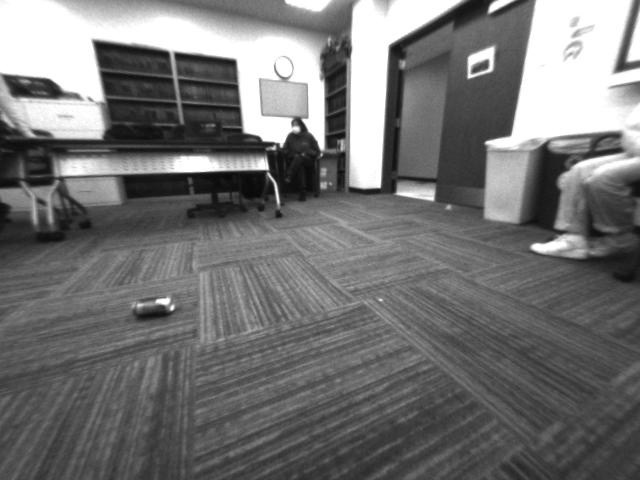can: (123, 293, 185, 323)
